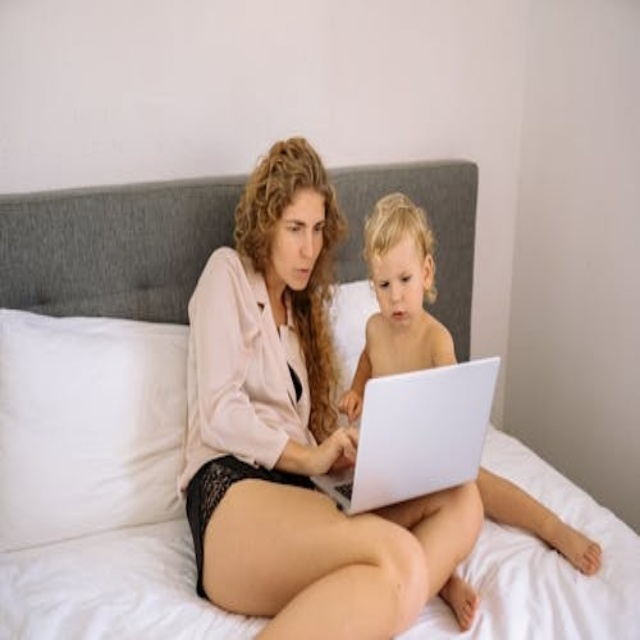Sin_gafas: (375, 256, 422, 292), (282, 206, 328, 240)
Sin_mascara: (288, 259, 312, 290), (387, 304, 411, 325)
